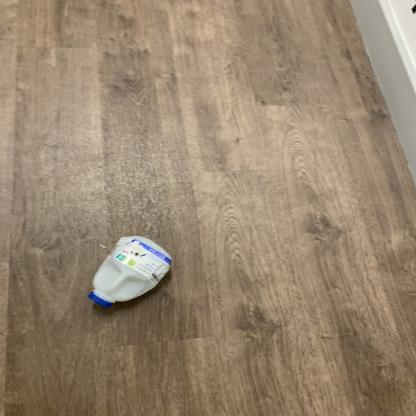trash: (84, 235, 174, 309)
